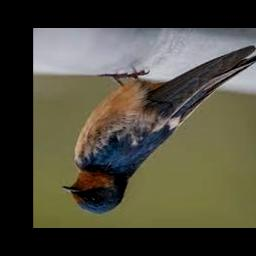Swallow: (63, 45, 256, 215)
